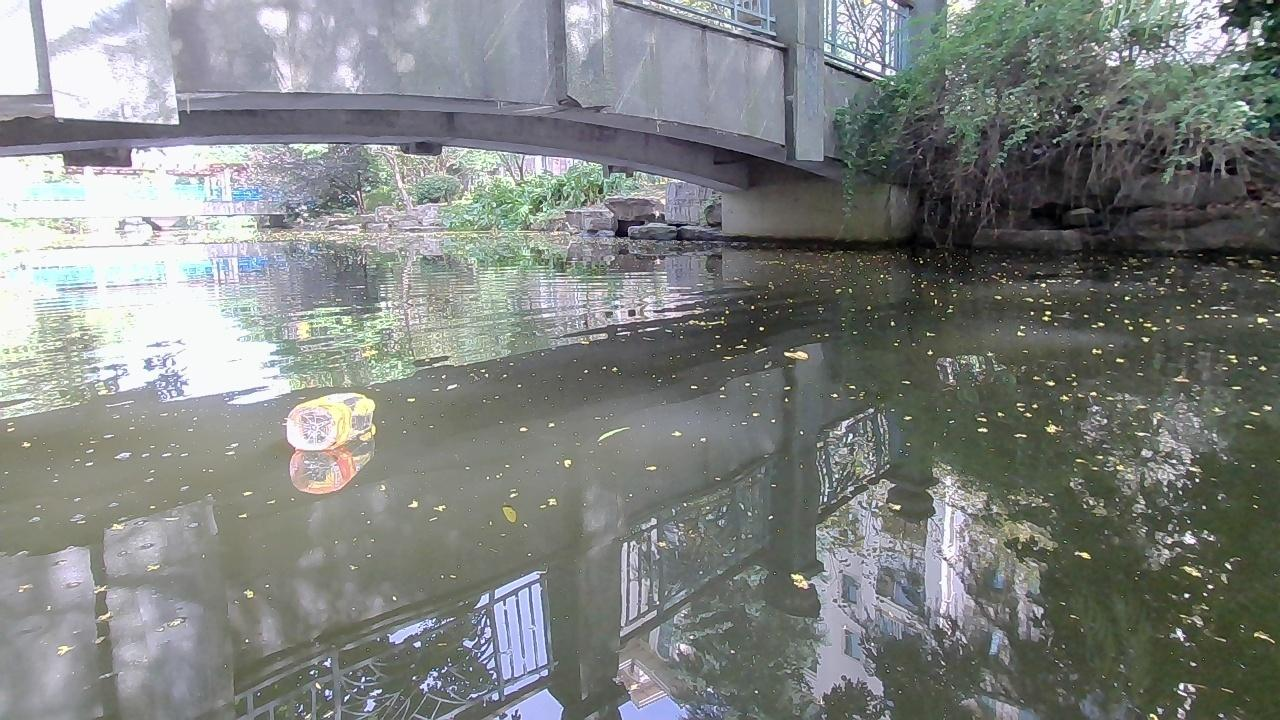bottle: (284, 387, 374, 450)
